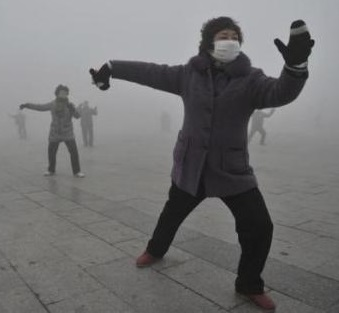person: (88, 14, 319, 313), (17, 79, 89, 182), (75, 100, 101, 149), (247, 108, 276, 147), (10, 107, 31, 142)
